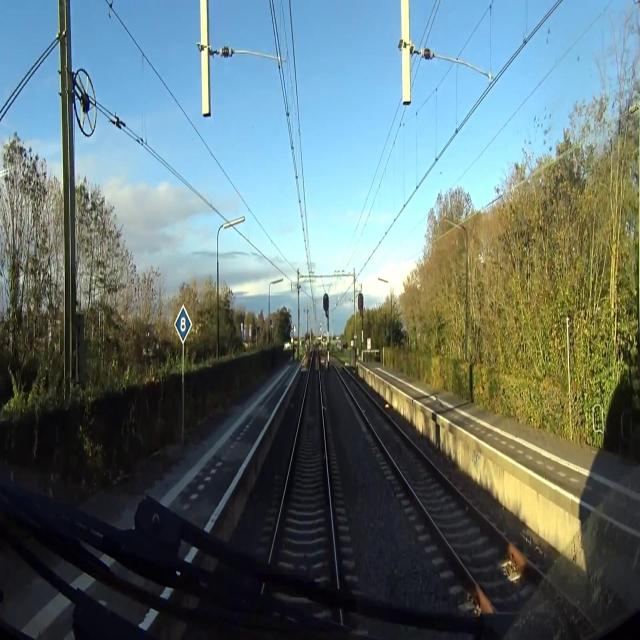rail-track: (336, 364, 592, 637), (272, 347, 335, 584)
